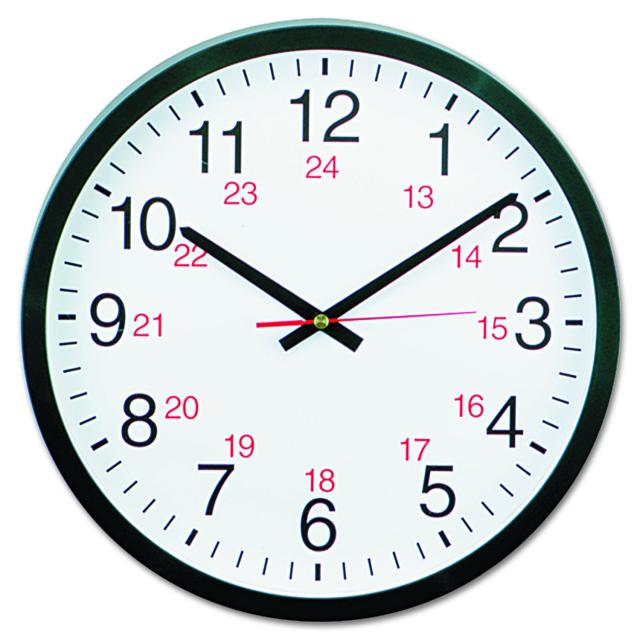clock: (0, 13, 625, 563)
